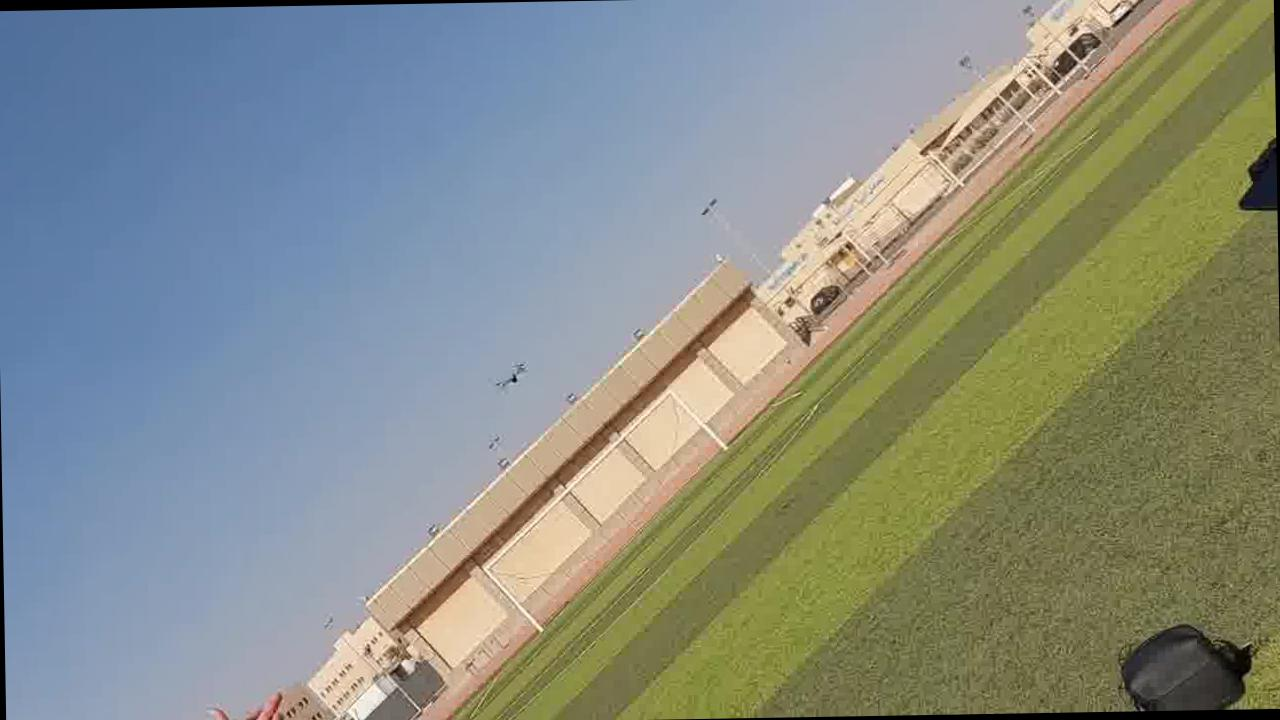drone: (488, 349, 534, 403)
